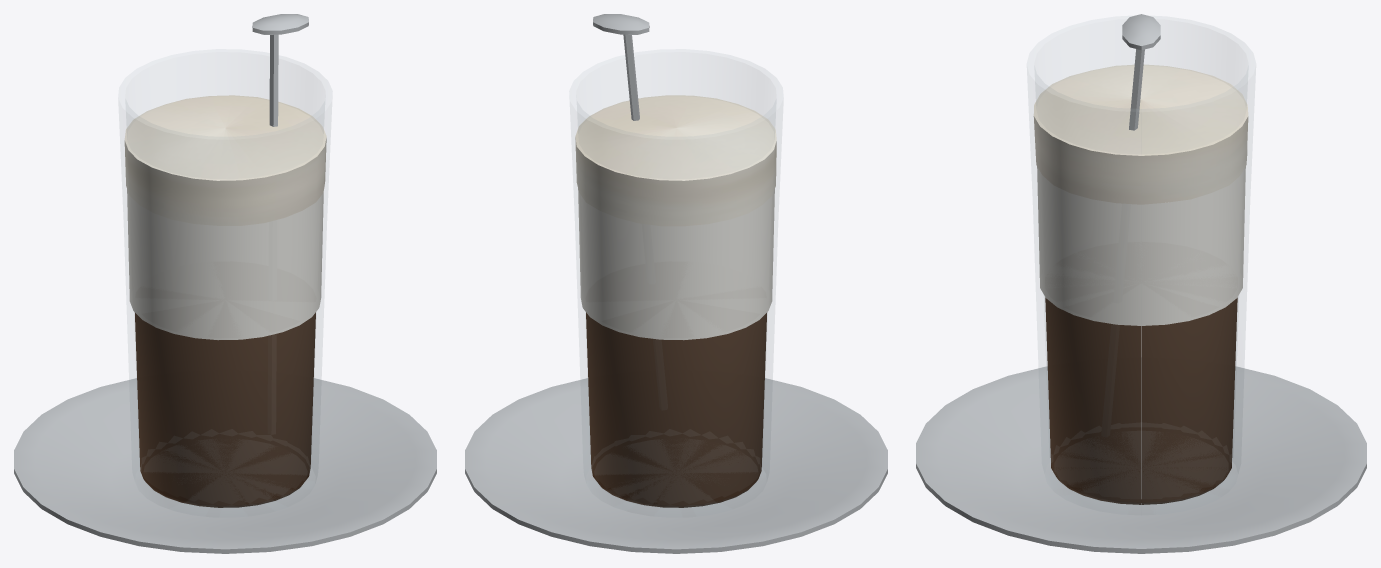
File: drink_latte_macchiato_glass.glb
3 views of the same model, side by side, from view 1: azimuth 30°, elevation 25°; view 2: azimuth 150°, elevation 25°; view 3: azimuth 270°, elevation 25° (orthographic). The views are drawn at different scales.
Parts seen in each view (by area): view 1: drink_latte_macchiato_glass; view 2: drink_latte_macchiato_glass; view 3: drink_latte_macchiato_glass.
Boxes of the visible parts, x1,y1,x2,y2 form: drink_latte_macchiato_glass: (14, 14, 436, 553); drink_latte_macchiato_glass: (465, 14, 887, 553); drink_latte_macchiato_glass: (916, 14, 1366, 553).
Bounding box in the file's own units: 0.15 × 0.1805 × 0.1492.
Materials: 5 (1 with a texture image).
